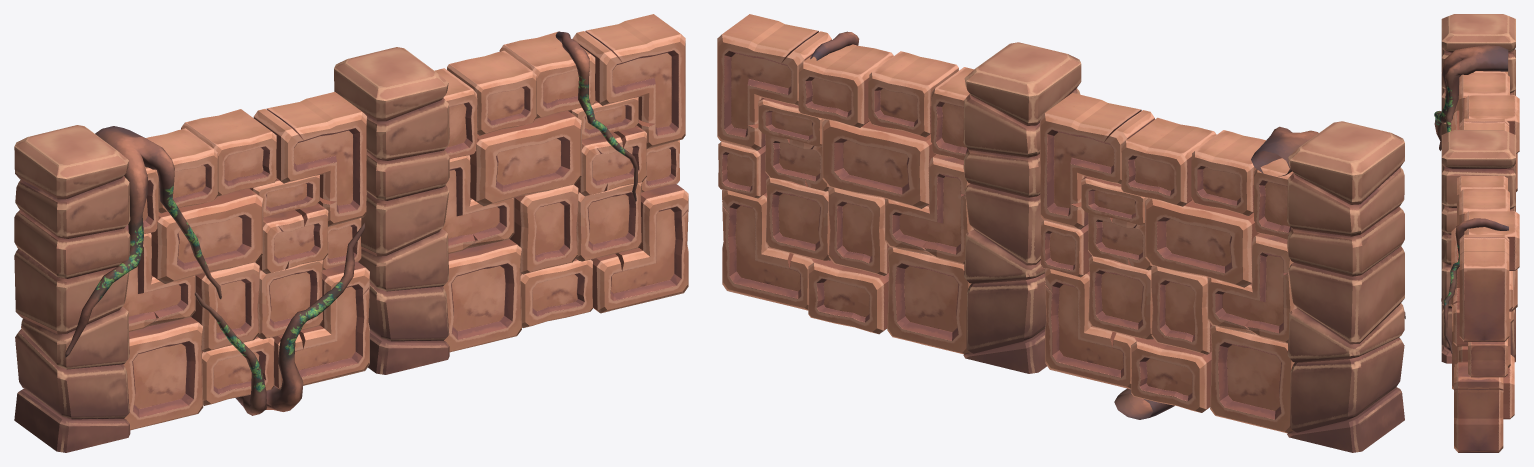
The model's file is FullWall.fbx.
3 renders of one model, left to right at view 1: azimuth 30°, elevation 25°; view 2: azimuth 150°, elevation 25°; view 3: azimuth 270°, elevation 25°, orthographic. The views are drawn at different scales.
Parts seen in each view (by area): view 1: FullWall; view 2: FullWall; view 3: FullWall.
Part boxes in pixels (<box>): FullWall: <box>14,14,688,452</box>; FullWall: <box>717,14,1405,452</box>; FullWall: <box>1434,14,1519,452</box>.
Bounding box in the file's own units: 4.66 × 2.17 × 0.7239.
